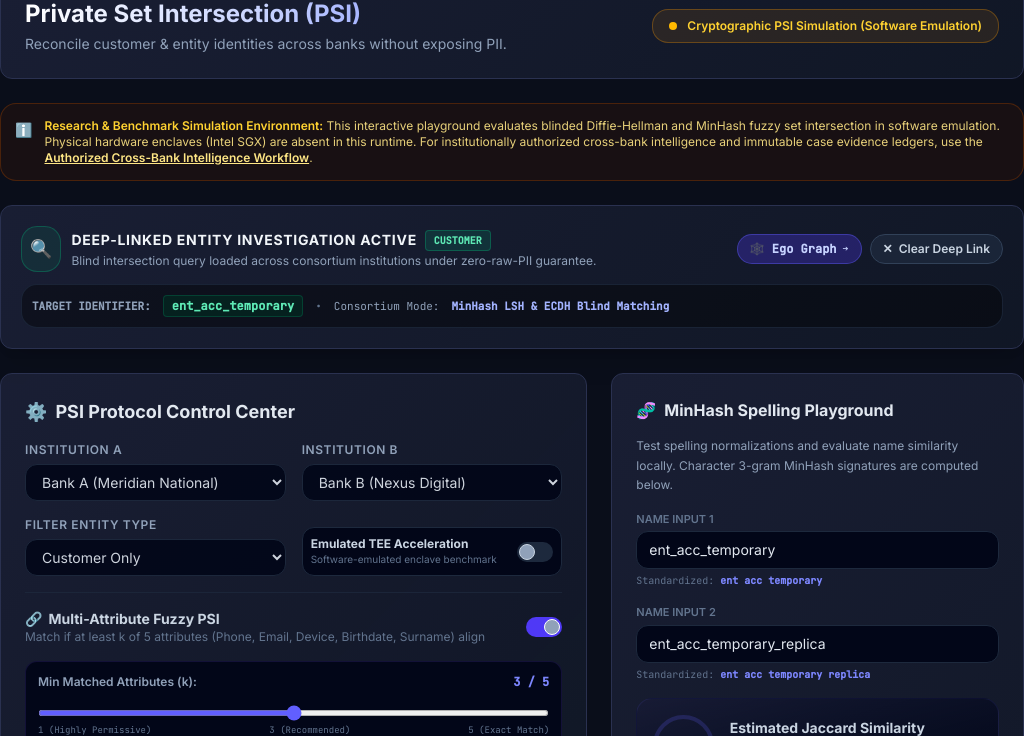
PsiPage Deep Linking & Entity Preloading › allows clearing deep-link filter and restores default playground state
Expected: the heading "Deep-Linked Entity Investigation Active" is shown, [72,230,417,250]
Expected: the text "ent_acc_temporary" is shown, [163,295,303,317]
Click the button "✕ Clear Deep Link" at (936, 249), box [870,234,1003,264]
(page scrolled)
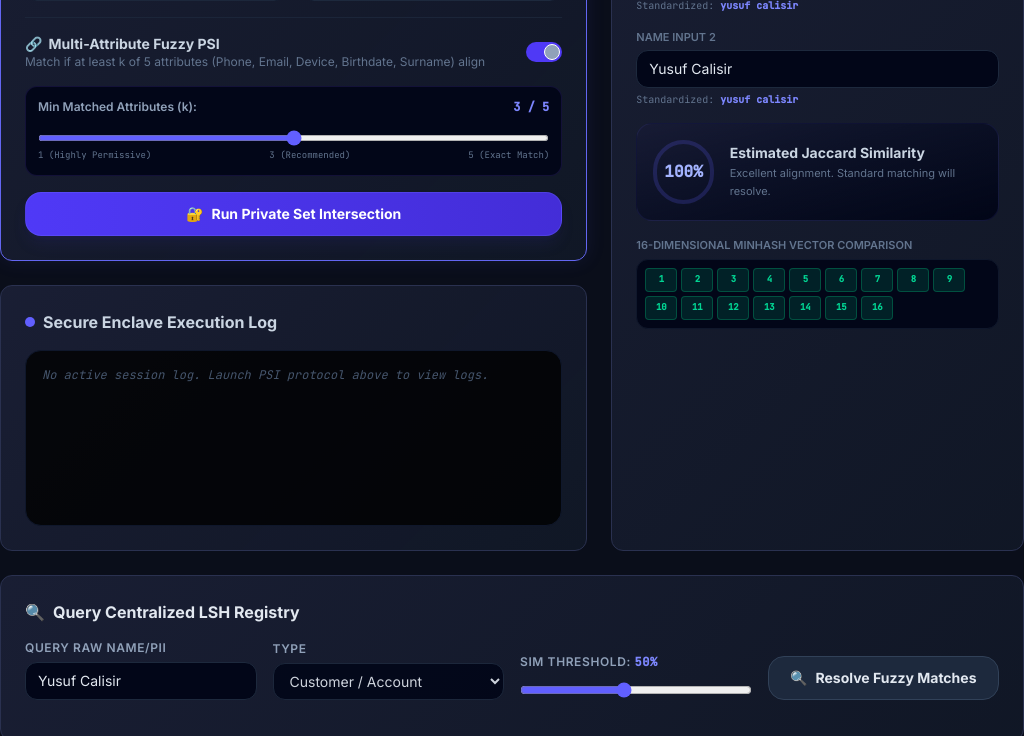
Expected: the heading "Deep-Linked Entity Investigation Active" is gone
Expected: the field with placeholder "e.g. Yusuf Çalışır" below "Query Raw Name/PII" holds "Yusuf Calisir", [25,662,256,700]
